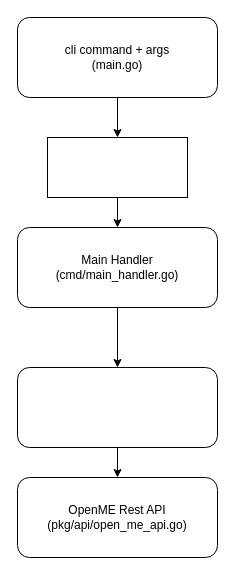
Image size: 235x575. Some labels were removed from this diagram. The shapes that lost their labels are listed below. From the top down, each one's centre as x and y in pixels, then its label:
the point at 117,167: CmdContext (cmd name + arg array)
the point at 117,407: Specific Handler and pass args (cmd/*_handler.go files)
